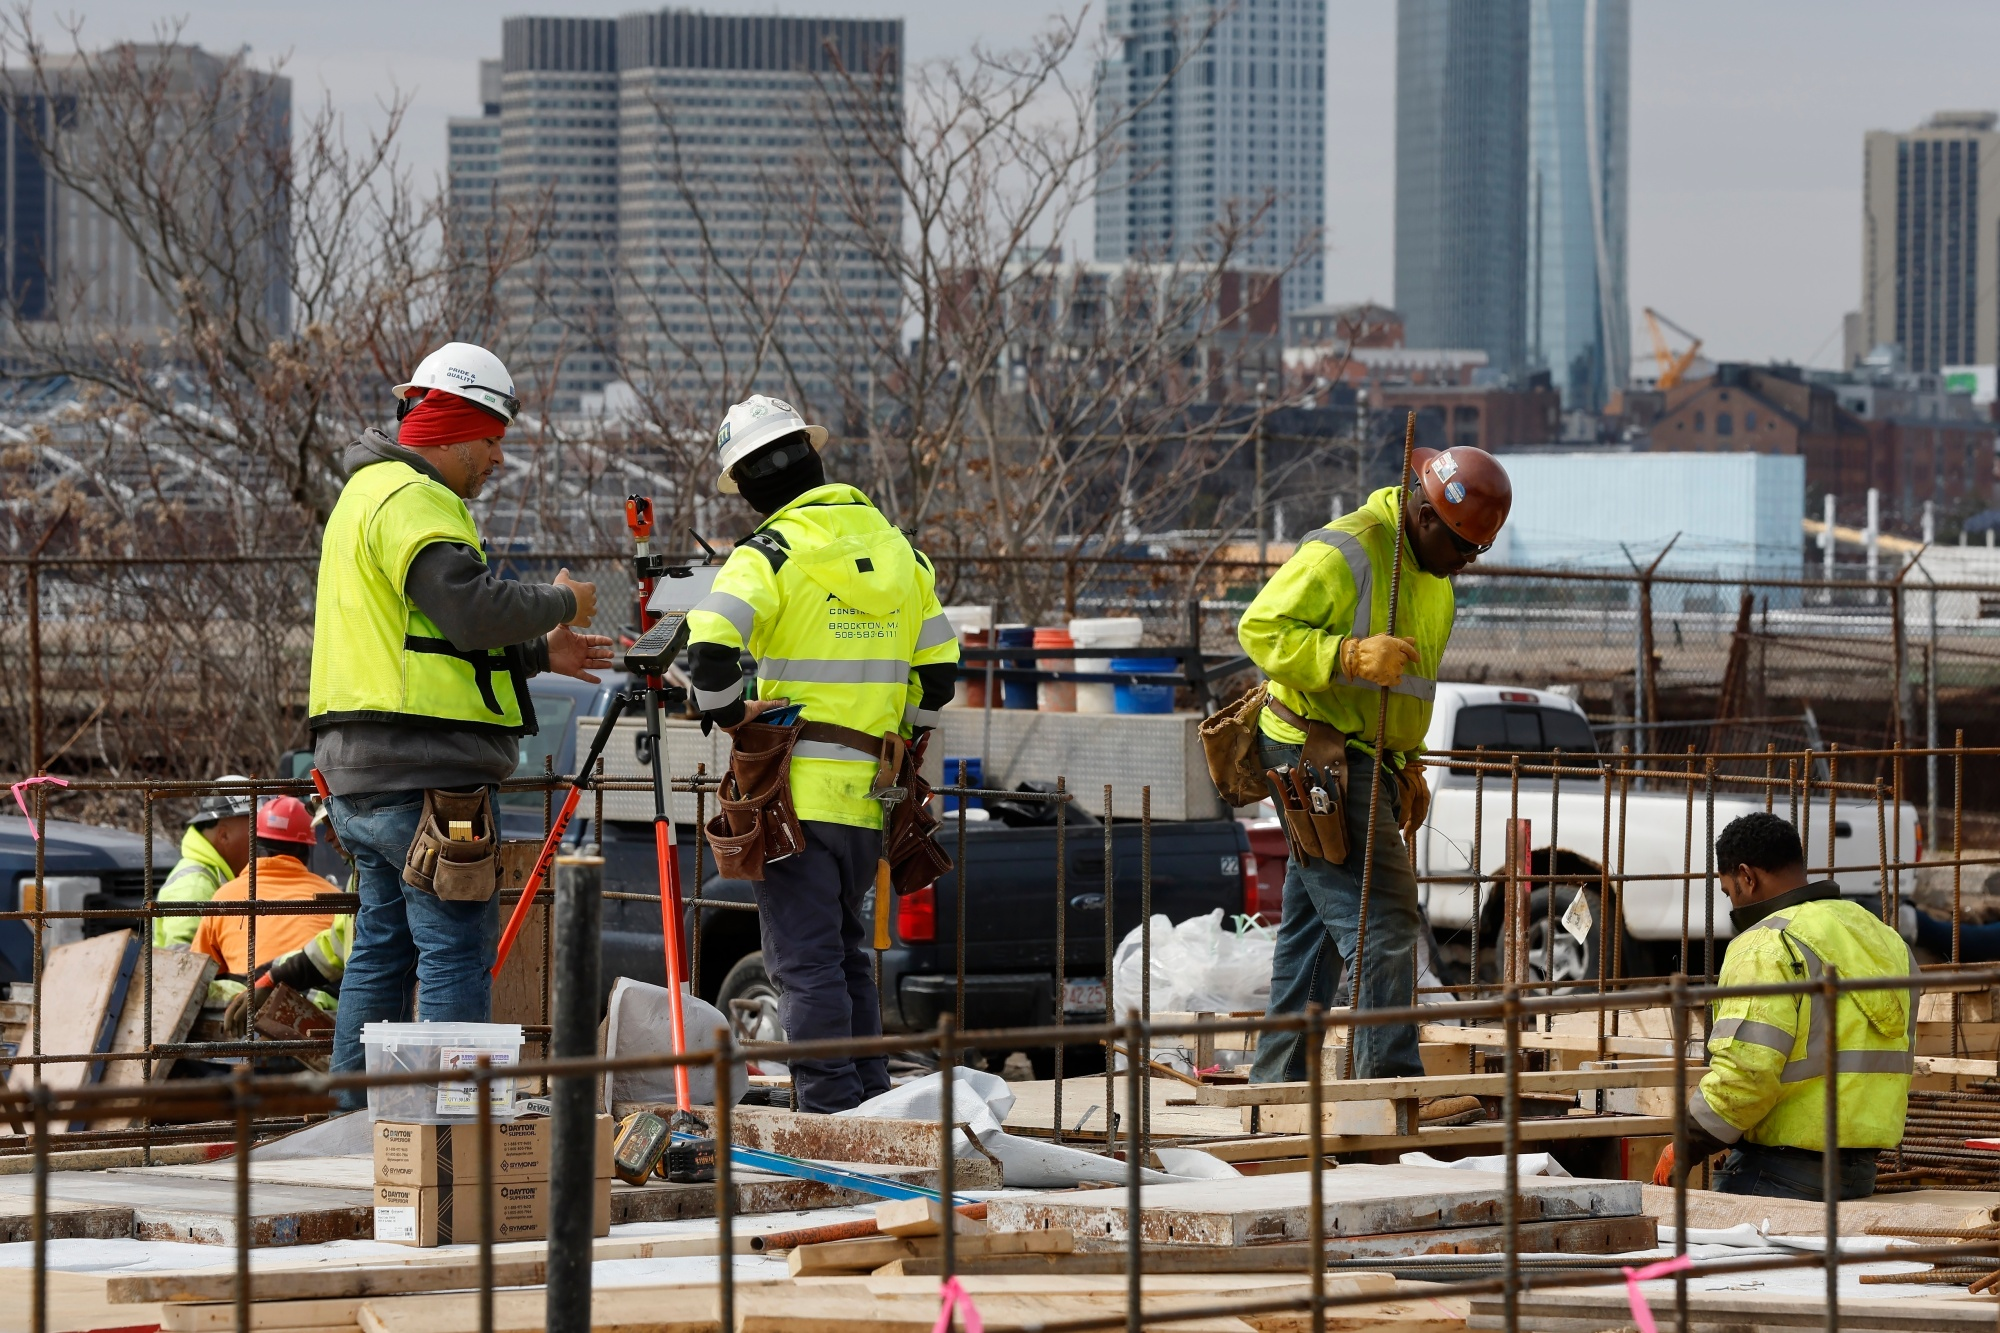hat: (1398, 430, 1533, 556), (700, 388, 837, 492), (395, 324, 521, 424)
jacket: (683, 493, 949, 850), (298, 451, 588, 731), (1668, 887, 1948, 1177), (1237, 497, 1464, 777)
